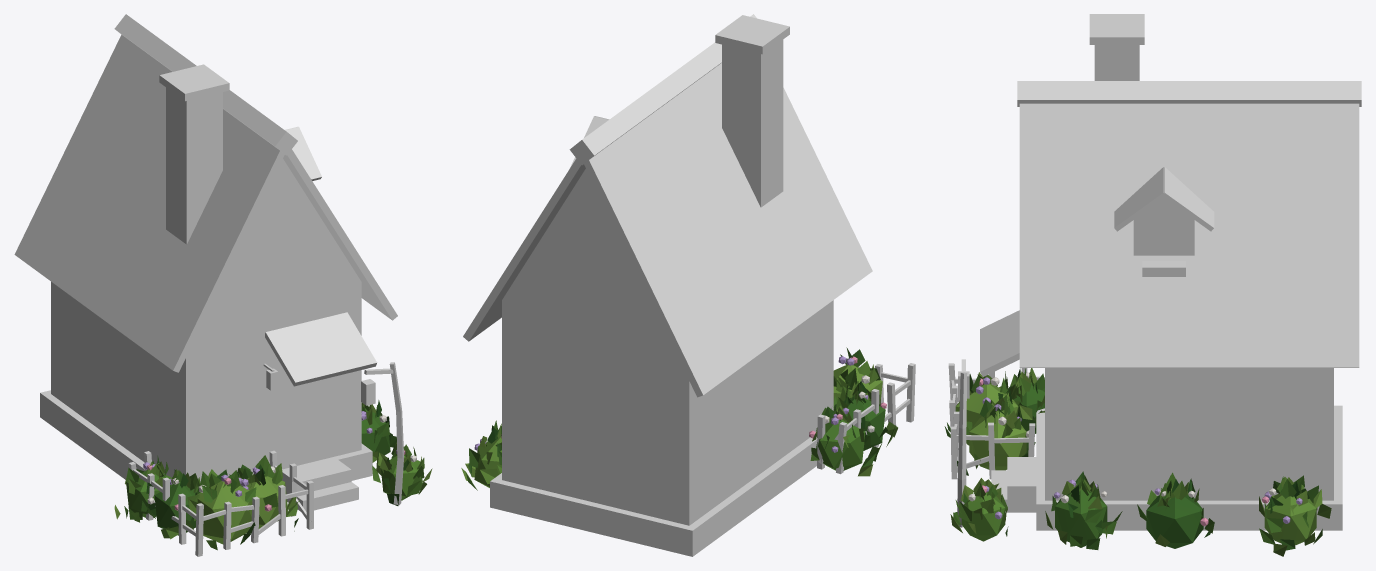
Rendered from cabin.glb.
3 renders of one model, left to right at view 1: azimuth 30°, elevation 25°; view 2: azimuth 150°, elevation 25°; view 3: azimuth 270°, elevation 25°, orthographic. The views are drawn at different scales.
Parts seen in each view (by area): view 1: Cabin, CabinFoliage; view 2: Cabin, CabinFoliage; view 3: Cabin, CabinFoliage.
Part boxes in pixels (x1,y1,x2,y2): Cabin: [14, 14, 404, 556]; CabinFoliage: [114, 400, 432, 550]; Cabin: [463, 14, 915, 556]; CabinFoliage: [461, 347, 897, 490]; Cabin: [948, 14, 1361, 530]; CabinFoliage: [944, 368, 1331, 556].
Size of the model in its own units: 4.91 by 6.77 by 5.77.
